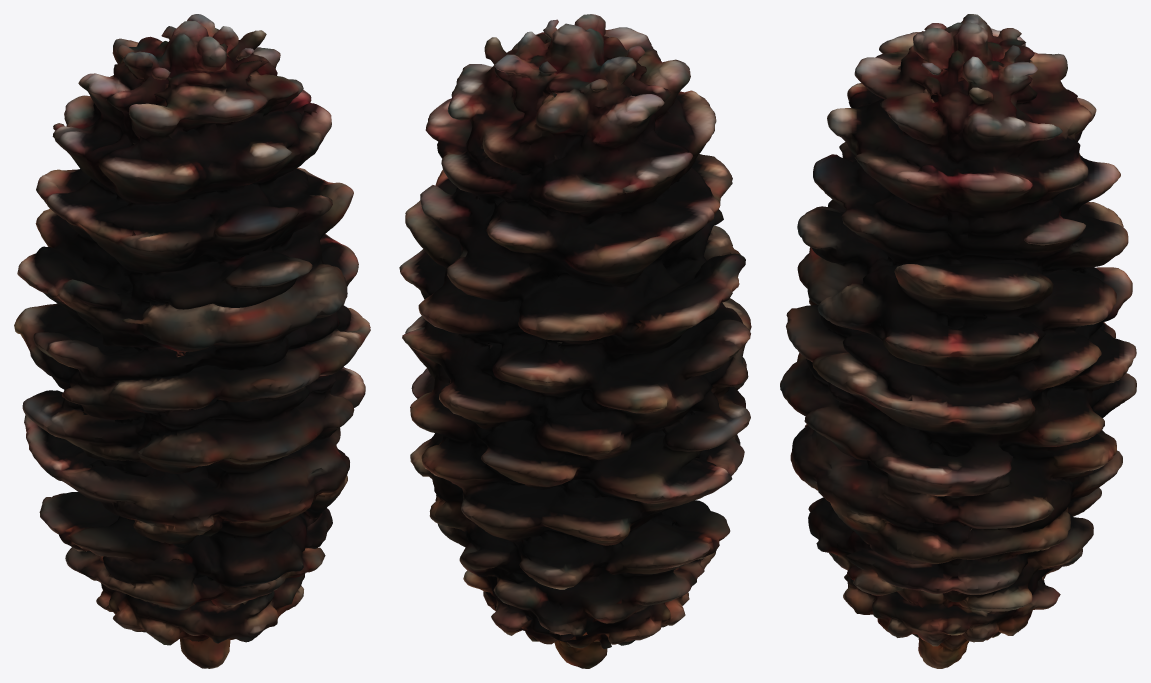
Rendered from chronos_pinecone.glb.
3 views of the same model, side by side, from view 1: azimuth 30°, elevation 25°; view 2: azimuth 150°, elevation 25°; view 3: azimuth 270°, elevation 25° (orthographic). The views are drawn at different scales.
Parts seen in each view (by area): view 1: chronos_mesh; view 2: chronos_mesh; view 3: chronos_mesh.
Boxes of the visible parts, bbox=[...] form: chronos_mesh: bbox=[14, 14, 370, 668]; chronos_mesh: bbox=[399, 14, 751, 668]; chronos_mesh: bbox=[780, 14, 1136, 668].
Bounding box in the file's own units: 0.6142 × 1.2 × 0.6054.
